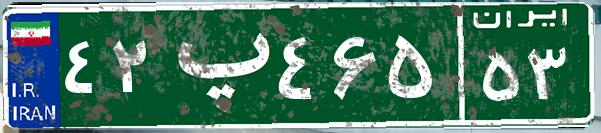2: (110, 28, 158, 105)
3: (525, 38, 570, 115)
4: (273, 28, 330, 110), (57, 26, 110, 107)
5: (385, 28, 445, 110), (475, 38, 525, 113)
6: (330, 28, 385, 110)
پ: (158, 15, 273, 115)
